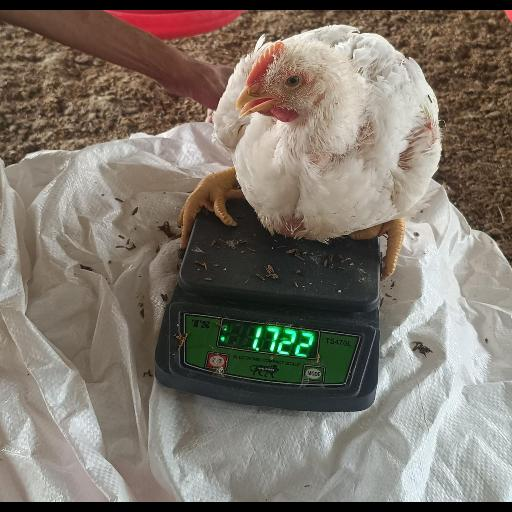chick: (181, 23, 439, 276)
